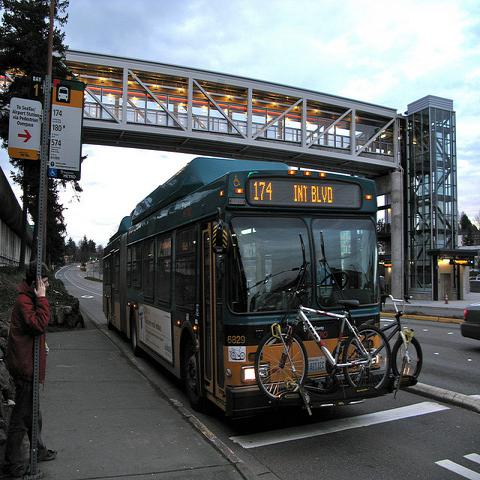bus: (101, 161, 383, 422)
car: (461, 302, 479, 341)
